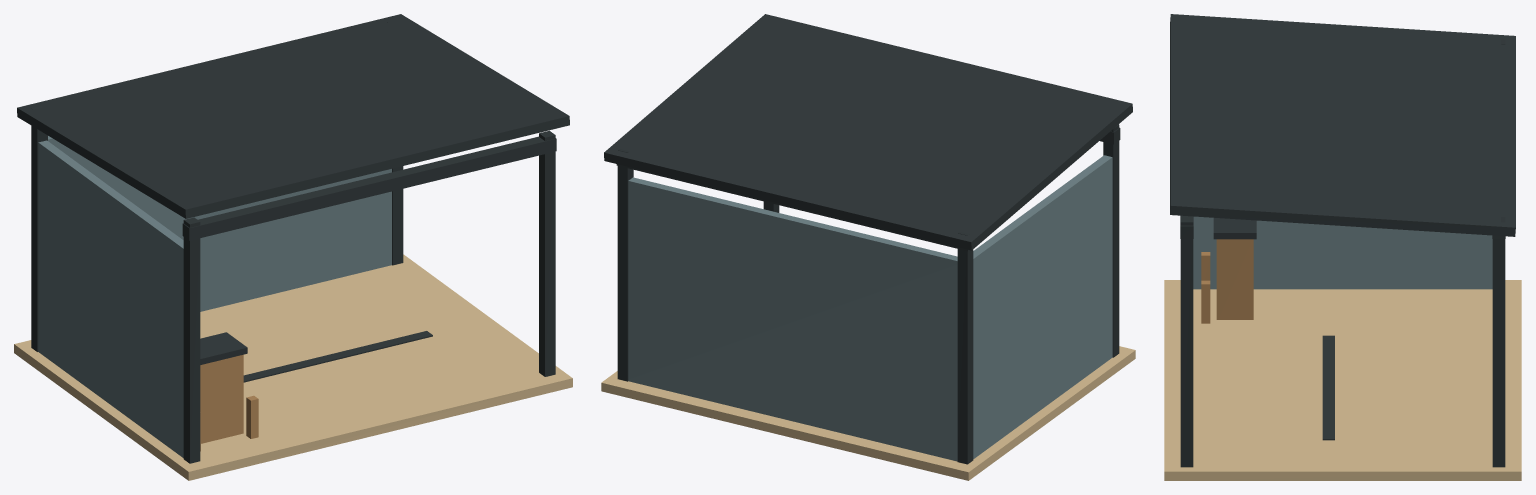
Rendered from Truck-Depot.glb.
3 renders of one model, left to right at view 1: azimuth 30°, elevation 25°; view 2: azimuth 150°, elevation 25°; view 3: azimuth 270°, elevation 25°, orthographic. The views are drawn at different scales.
Visible parts, largest first — view 1: truck-depot-static-truck-depot-charcoal-roof, truck-depot-static-truck-depot-muted-metal-wall, truck-depot-static-truck-depot-hardstand-concrete, truck-depot-static-truck-depot-service-cabinet; view 2: truck-depot-static-truck-depot-muted-metal-wall, truck-depot-static-truck-depot-charcoal-roof, truck-depot-static-truck-depot-hardstand-concrete; view 3: truck-depot-static-truck-depot-charcoal-roof, truck-depot-static-truck-depot-hardstand-concrete, truck-depot-static-truck-depot-muted-metal-wall, truck-depot-static-truck-depot-service-cabinet, truck-depot-static-truck-depot-safety-bollards.
Part boxes in pixels (<box>): truck-depot-static-truck-depot-charcoal-roof: <box>17,14,569,463</box>; truck-depot-static-truck-depot-muted-metal-wall: <box>38,136,391,457</box>; truck-depot-static-truck-depot-hardstand-concrete: <box>14,254,572,480</box>; truck-depot-static-truck-depot-service-cabinet: <box>200,354,243,443</box>; truck-depot-static-truck-depot-muted-metal-wall: <box>628,155,1112,461</box>; truck-depot-static-truck-depot-charcoal-roof: <box>604,14,1132,464</box>; truck-depot-static-truck-depot-hardstand-concrete: <box>601,346,1135,480</box>; truck-depot-static-truck-depot-charcoal-roof: <box>1170,14,1515,467</box>; truck-depot-static-truck-depot-hardstand-concrete: <box>1164,280,1521,480</box>; truck-depot-static-truck-depot-muted-metal-wall: <box>1193,216,1492,289</box>; truck-depot-static-truck-depot-service-cabinet: <box>1216,239,1253,319</box>; truck-depot-static-truck-depot-safety-bollards: <box>1201,252,1210,323</box>.
Bounding box in the file's own units: 8 × 5.35 × 6.3.
